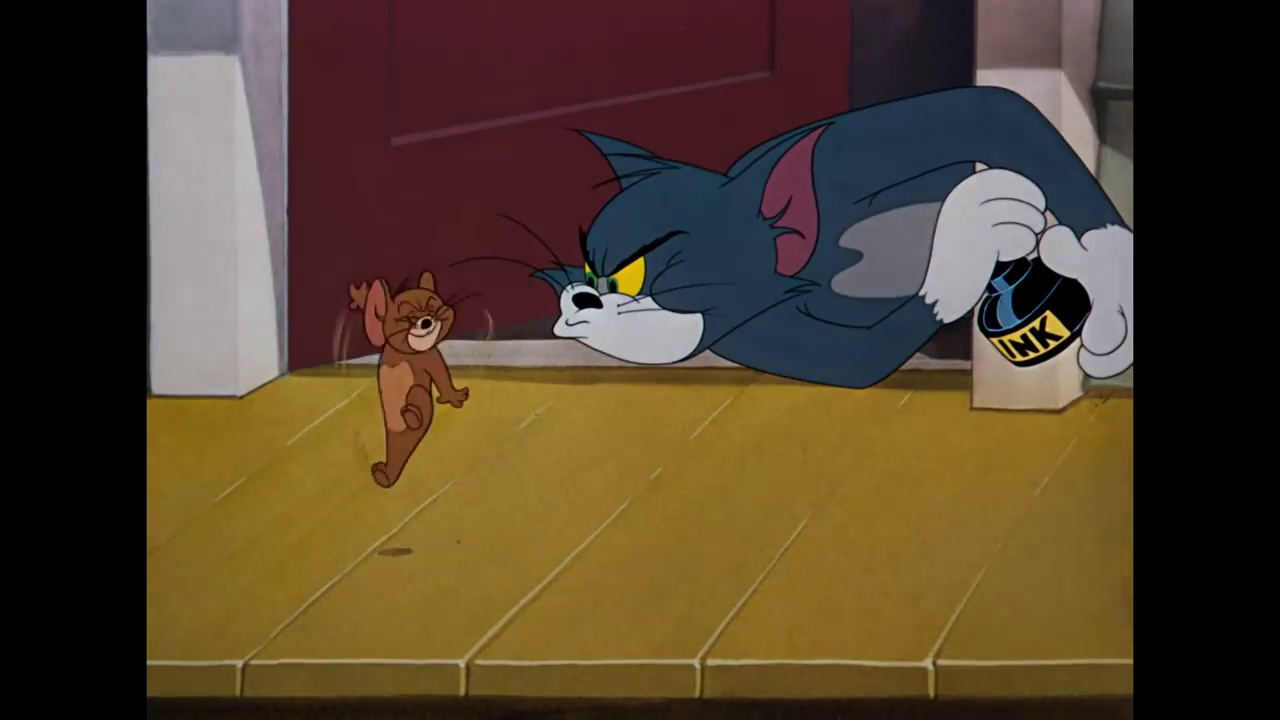tom: (530, 120, 843, 365)
